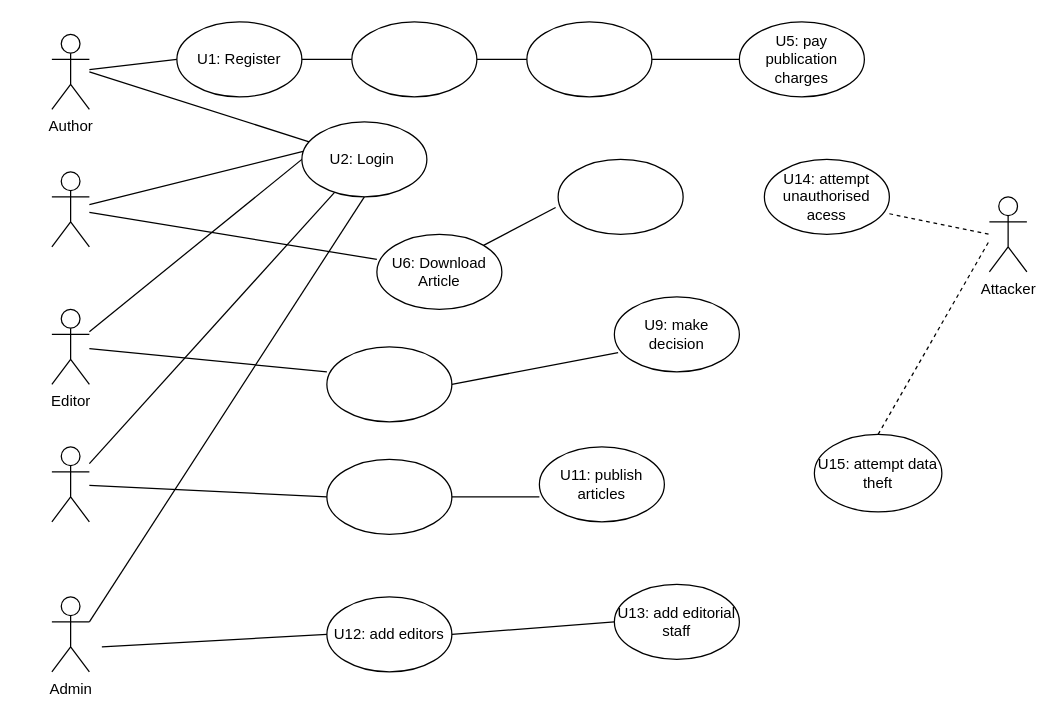
Image size: 1058x720. Some labels were removed from this diagram. The centre of each missing label's shape, as x and y in pixels:
Editorial Staaff: point (70, 484)
Reviewer: point (70, 209)
U10: verify payment: point (389, 496)
U3: submit article: point (414, 59)
U4: revise article format: point (589, 59)
U7: submit review: point (620, 196)
U8: submitted reviews: point (389, 384)
